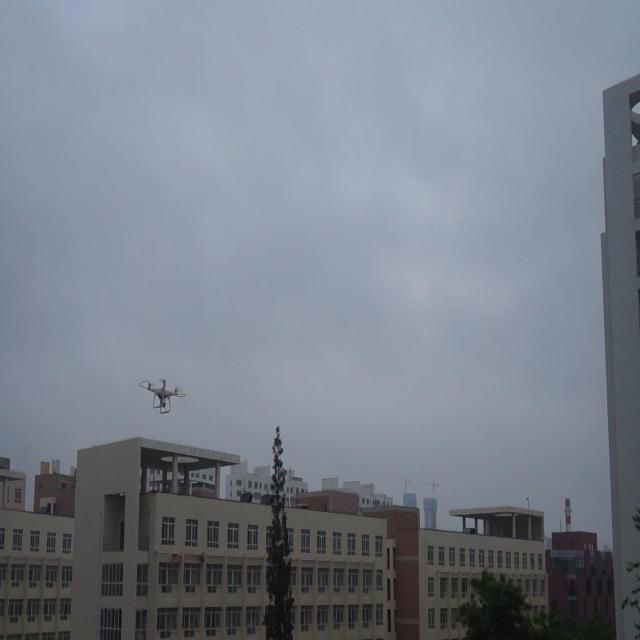UAV: (138, 379, 186, 414)
